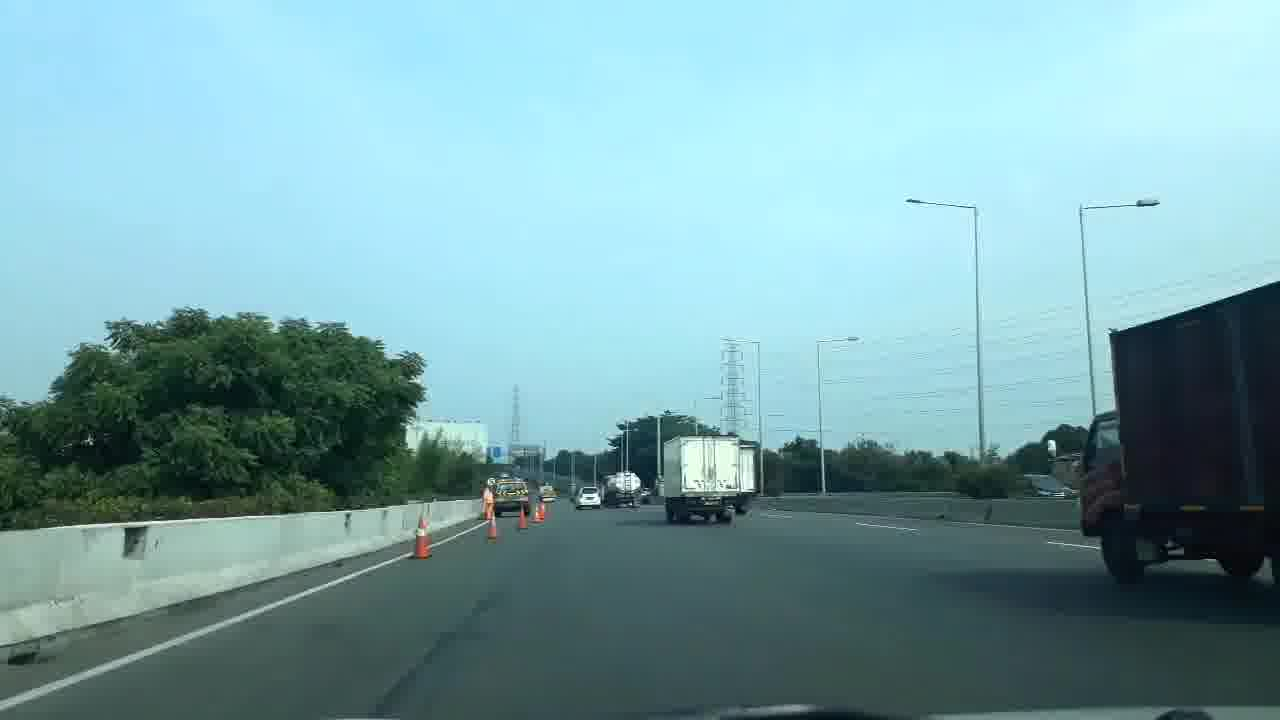plate_positive: (704, 500, 720, 506)
